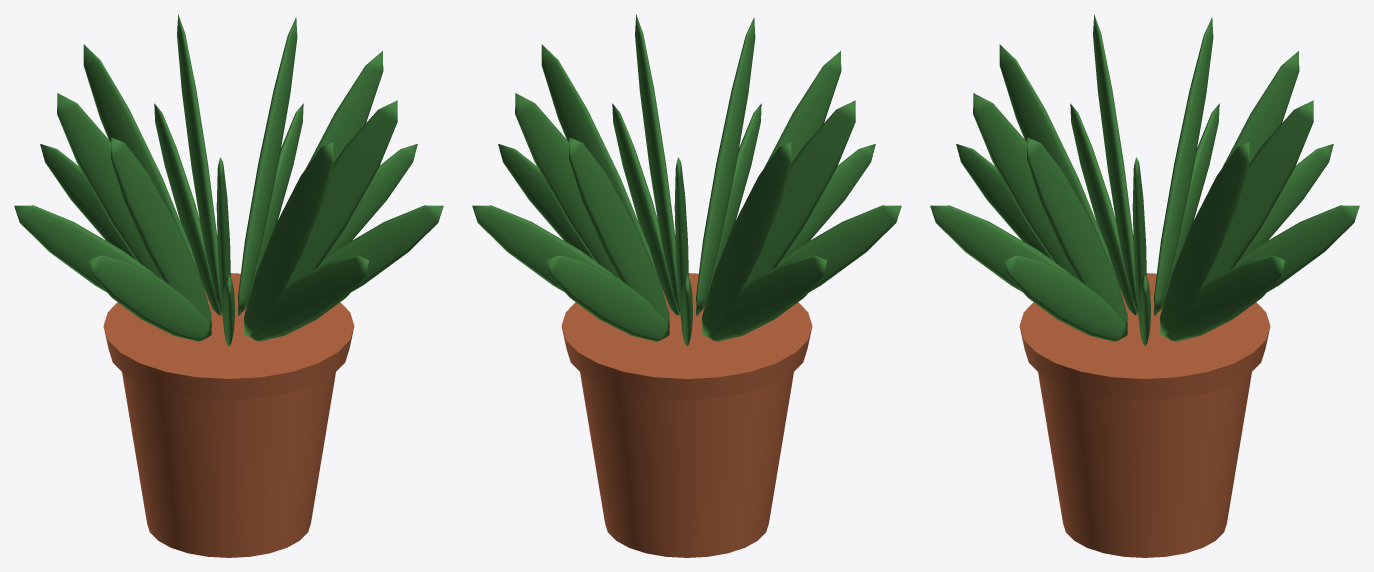
Rendered from plant.glb.
The picture shows the model from 3 angles, left to right: view 1: azimuth 30°, elevation 25°; view 2: azimuth 150°, elevation 25°; view 3: azimuth 270°, elevation 25°; orthographic projection.
Parts seen in each view (by area): view 1: pot, rim, leaf-7, leaf-1, leaf-3, leaf-8, leaf-9, leaf-15, leaf-4, leaf-13, leaf-11, leaf-10 (+8 smaller); view 2: pot, rim, leaf-13, leaf-7, leaf-9, leaf-14, leaf-15, leaf-3, leaf-10, leaf-1, leaf-17, leaf-16 (+8 smaller); view 3: pot, rim, leaf-1, leaf-13, leaf-15, leaf-2, leaf-3, leaf-9, leaf-16, leaf-7, leaf-5, leaf-4 (+8 smaller).
Part boxes in pixels (<box>): pot: <box>122,372,335,557</box>; rim: <box>103,273,354,399</box>; leaf-7: <box>111,137,211,331</box>; leaf-1: <box>285,100,397,286</box>; leaf-3: <box>244,142,333,335</box>; leaf-8: <box>88,255,211,341</box>; leaf-9: <box>57,93,162,279</box>; leaf-15: <box>238,17,297,315</box>; leaf-4: <box>247,255,369,341</box>; leaf-13: <box>177,14,221,315</box>; leaf-11: <box>83,44,207,300</box>; leaf-10: <box>14,205,156,291</box>; pot: <box>580,372,793,557</box>; rim: <box>561,273,812,399</box>; leaf-13: <box>569,137,669,331</box>; leaf-7: <box>743,100,855,286</box>; leaf-9: <box>702,142,791,335</box>; leaf-14: <box>546,255,669,341</box>; leaf-15: <box>515,93,620,279</box>; leaf-3: <box>696,17,755,315</box>; leaf-10: <box>705,255,827,341</box>; leaf-1: <box>635,14,679,315</box>; leaf-17: <box>541,44,665,300</box>; leaf-16: <box>472,205,614,291</box>; pot: <box>1038,372,1251,557</box>; rim: <box>1019,273,1270,399</box>; leaf-1: <box>1027,137,1127,331</box>; leaf-13: <box>1201,100,1313,286</box>; leaf-15: <box>1160,142,1249,335</box>; leaf-2: <box>1004,255,1127,341</box>; leaf-3: <box>973,93,1078,279</box>; leaf-9: <box>1154,17,1213,315</box>; leaf-16: <box>1163,255,1285,341</box>; leaf-7: <box>1093,14,1137,315</box>; leaf-5: <box>999,44,1123,300</box>; leaf-4: <box>930,205,1072,291</box>.
Size of the model in its own units: 0.8263 by 0.9465 by 0.8391.
